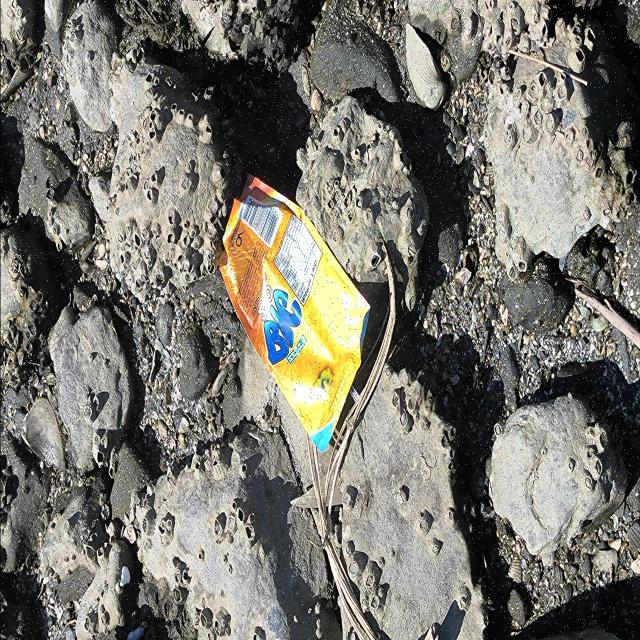plastic_waste: (218, 174, 372, 455)
